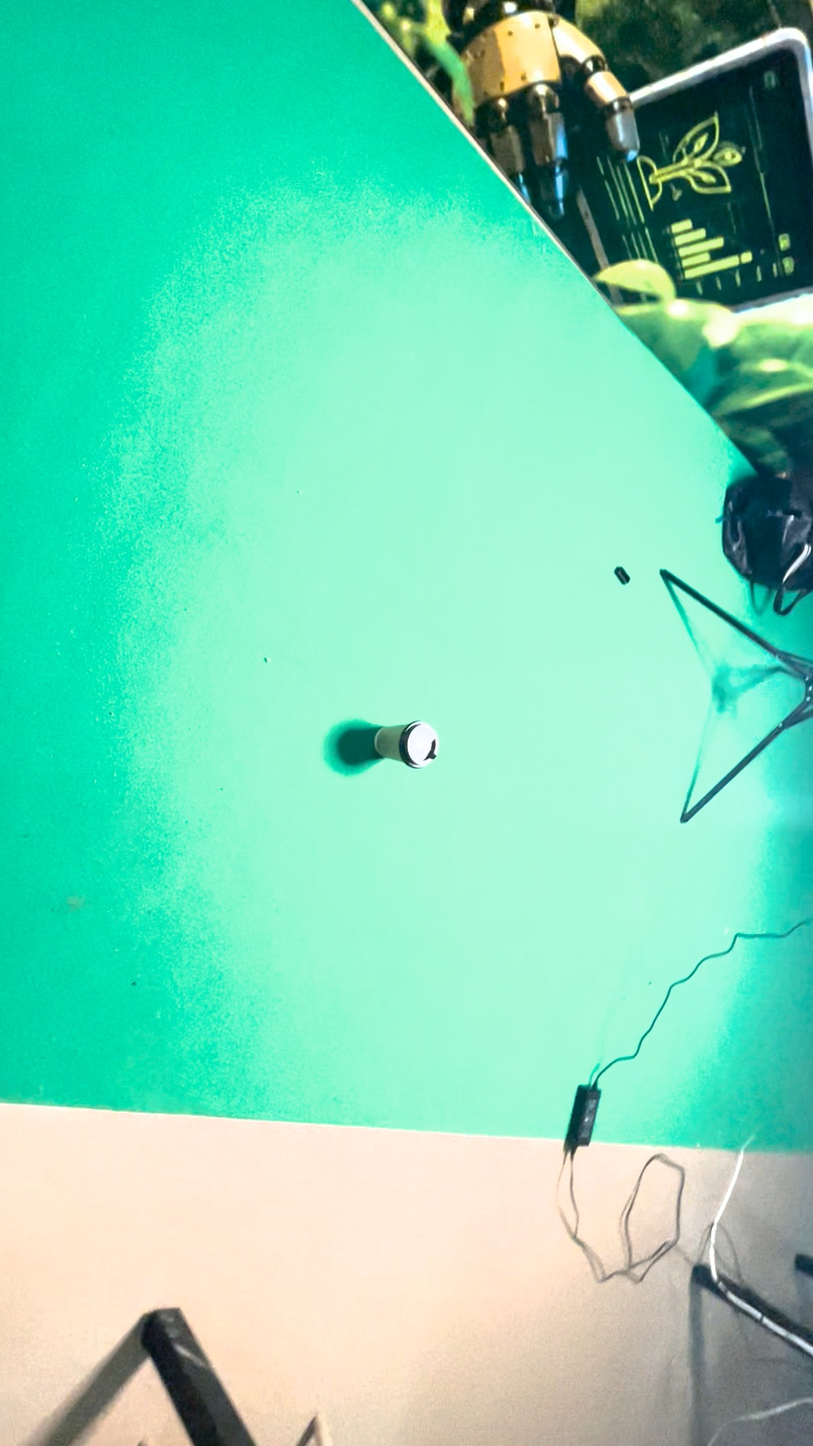cup: (433, 842, 512, 1238)
